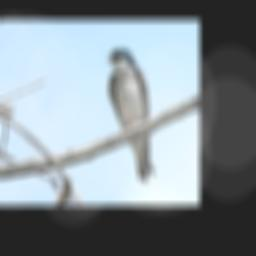Swallow: (105, 49, 155, 182)
